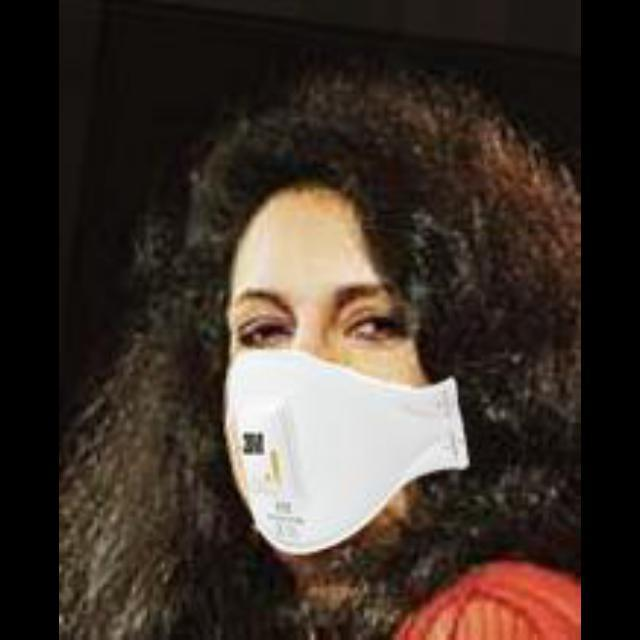suspicion: (169, 106, 506, 574)
